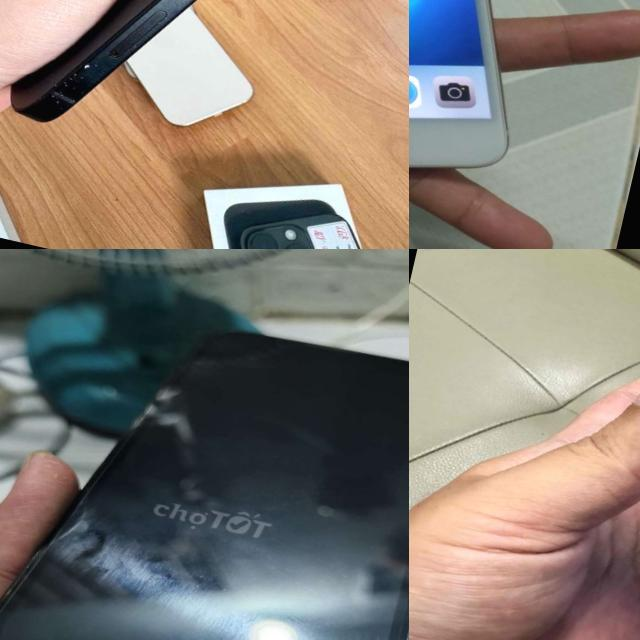gen_12_13: (0, 274, 409, 640)
gen_16: (12, 0, 195, 121)
gen_7_8: (409, 0, 596, 220)
scratch: (25, 517, 409, 640), (24, 45, 129, 138), (170, 0, 245, 24)
